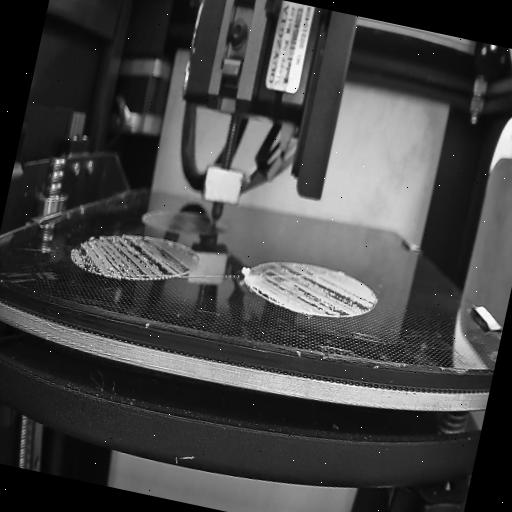under_extrusion: (68, 220, 196, 290), (250, 260, 378, 322)
